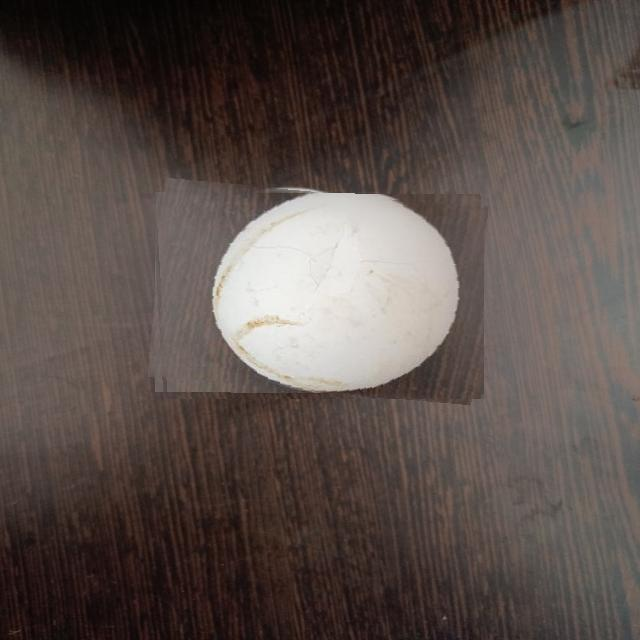biodegradable: (151, 185, 484, 399)
